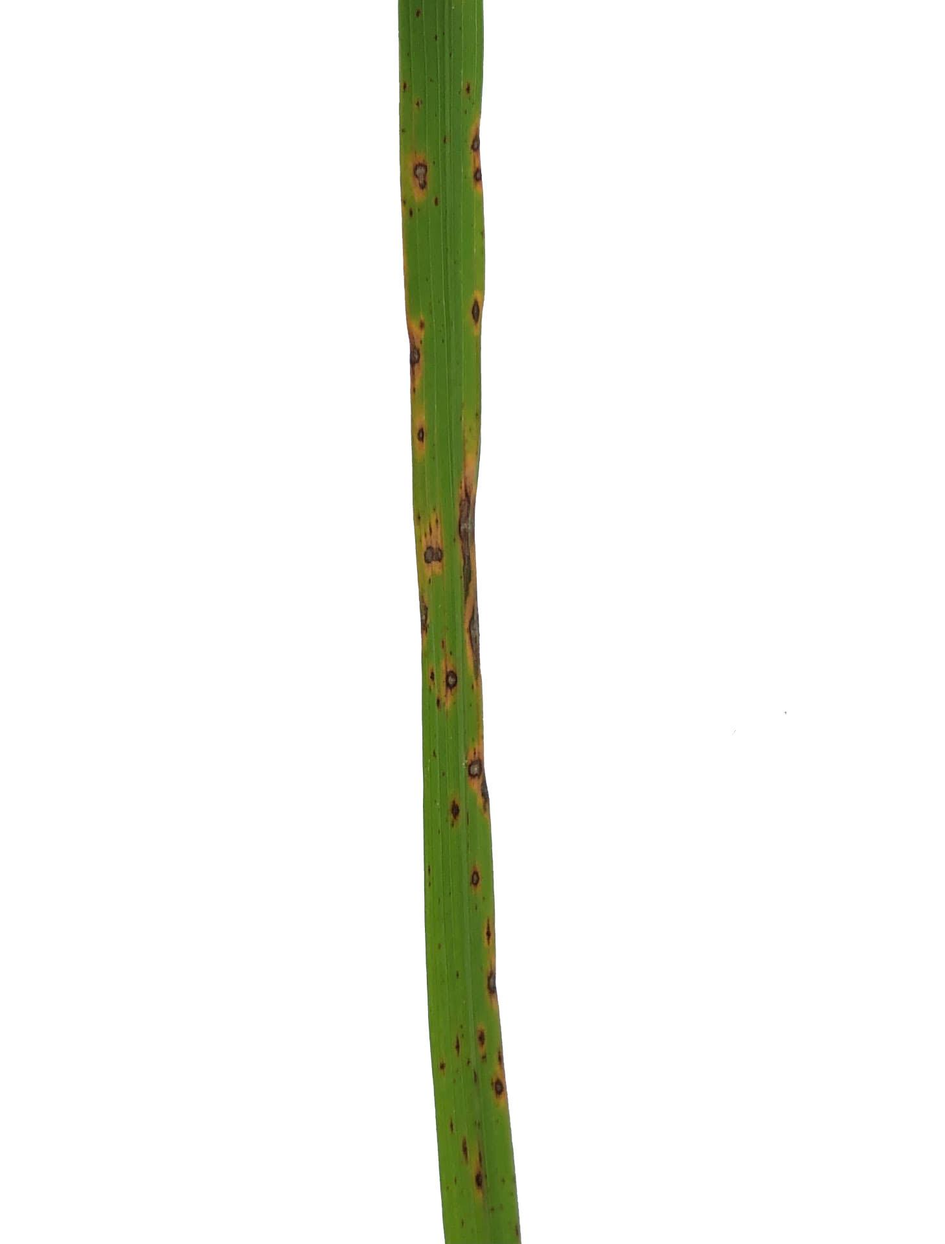Brown spot: (420, 532, 447, 575)
Rice blast: (449, 587, 497, 704), (447, 1122, 494, 1213), (458, 488, 479, 607), (454, 1032, 491, 1088), (468, 122, 488, 200), (407, 316, 426, 379), (409, 149, 432, 201), (465, 747, 484, 786), (447, 793, 458, 849), (472, 284, 483, 331), (415, 417, 430, 449), (470, 856, 482, 895), (486, 972, 503, 999), (477, 1025, 491, 1053), (491, 1074, 507, 1098), (446, 667, 458, 691), (486, 914, 493, 949)
